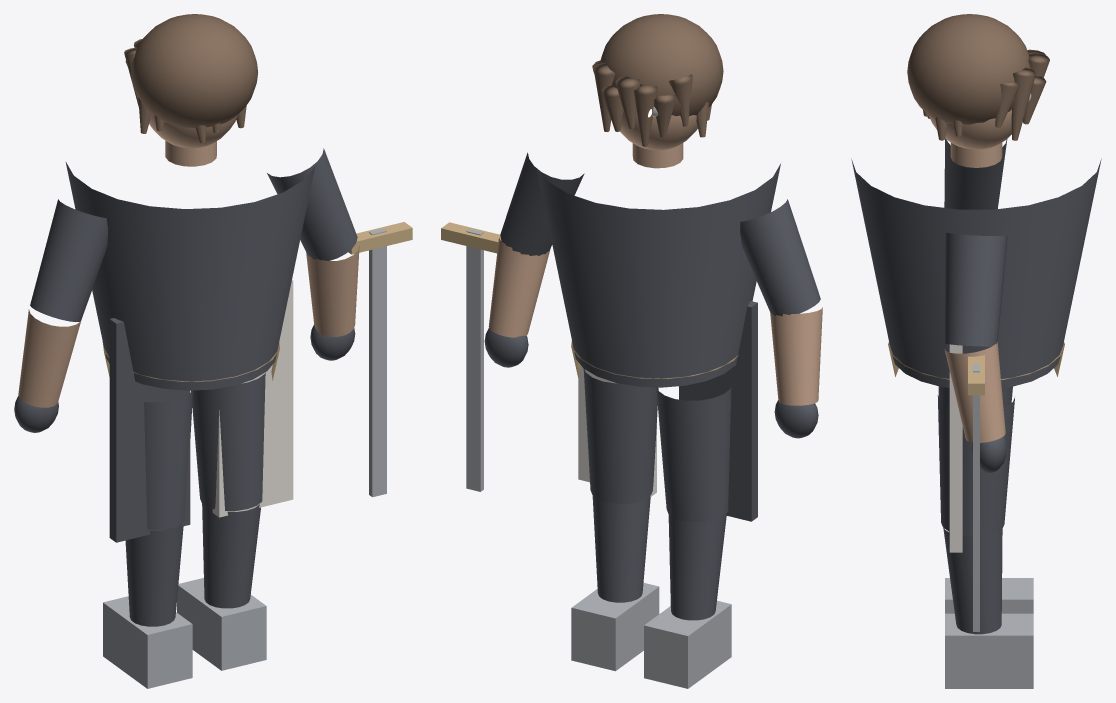
File: leo-procedural-v1.glb
3 renders of one model, left to right at view 1: azimuth 30°, elevation 25°; view 2: azimuth 150°, elevation 25°; view 3: azimuth 270°, elevation 25°, orthographic. The views are drawn at different scales.
Parts seen in each view (by area): view 1: Outfit_Torso, Hair_Cap, Outfit_CoatTail_L, Body_Thigh_R, Body_UpperArm_L, Outfit_CoatTail_R, Outfit_Boot_L, Body_Thigh_L, Outfit_Boot_R, Body_Shin_R, Body_Shin_L, Weapon_SwordBlade (+8 smaller); view 2: Outfit_Torso, Body_Thigh_L, Body_Thigh_R, Hair_Cap, Outfit_CoatTail_L, Body_UpperArm_L, Outfit_Boot_L, Outfit_Boot_R, Body_Shin_R, Body_Shin_L, Weapon_SwordBlade, Body_Forearm_L (+14 smaller); view 3: Outfit_Torso, Hair_Cap, Body_UpperArm_R, Outfit_Boot_R, Body_Thigh_R, Body_Shin_R, Body_Forearm_R, Body_UpperArm_L, Outfit_CoatTail_R, Weapon_SwordBlade, Body_Head, Outfit_Boot_L (+8 smaller).
Part boxes in pixels (x1,y1,x2,y2): Outfit_Torso: [65, 162, 315, 390]; Hair_Cap: [131, 14, 257, 128]; Outfit_CoatTail_L: [109, 318, 190, 542]; Body_Thigh_R: [191, 372, 265, 510]; Body_UpperArm_L: [30, 199, 107, 322]; Outfit_CoatTail_R: [212, 280, 293, 517]; Outfit_Boot_L: [103, 596, 192, 688]; Body_Thigh_L: [144, 390, 192, 529]; Outfit_Boot_R: [177, 578, 266, 670]; Body_Shin_R: [202, 503, 260, 608]; Body_Shin_L: [125, 523, 183, 626]; Weapon_SwordBlade: [369, 228, 386, 497]; Outfit_Torso: [536, 163, 780, 387]; Body_Thigh_L: [656, 387, 731, 522]; Body_Thigh_R: [583, 369, 658, 503]; Hair_Cap: [600, 14, 723, 116]; Outfit_CoatTail_L: [679, 301, 757, 521]; Body_UpperArm_L: [740, 199, 820, 316]; Outfit_Boot_L: [644, 600, 731, 688]; Outfit_Boot_R: [571, 583, 659, 671]; Body_Shin_R: [592, 495, 650, 602]; Body_Shin_L: [668, 514, 726, 620]; Weapon_SwordBlade: [466, 229, 483, 491]; Body_Forearm_L: [770, 307, 822, 405]; Outfit_Torso: [851, 158, 1101, 387]; Hair_Cap: [907, 14, 1030, 124]; Body_UpperArm_R: [944, 232, 1007, 346]; Outfit_Boot_R: [945, 613, 1033, 688]; Body_Thigh_R: [937, 395, 1014, 536]; Body_Shin_R: [943, 528, 1002, 634]; Body_Forearm_R: [944, 341, 1005, 442]; Body_UpperArm_L: [944, 138, 1007, 209]; Outfit_CoatTail_R: [949, 344, 962, 552]; Weapon_SwordBlade: [973, 364, 979, 631]; Body_Head: [928, 109, 1011, 149]; Outfit_Boot_L: [945, 578, 1033, 613].
Size of the model in its own units: 1.19 by 1.9 by 0.6762.
